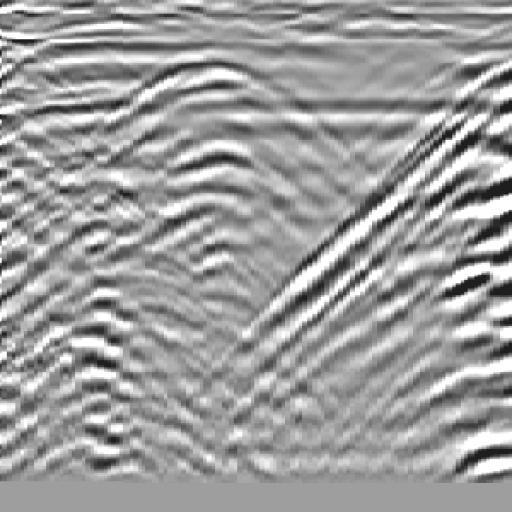metalic: (31, 30, 428, 350)
